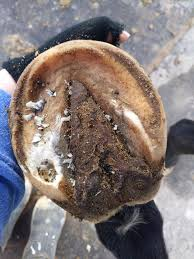horsesole: (8, 39, 168, 190)
